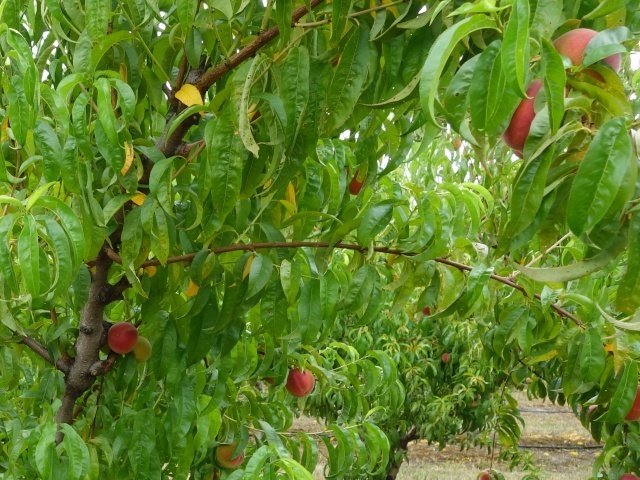peach: (495, 72, 563, 165), (548, 18, 624, 94), (104, 319, 142, 356), (284, 364, 317, 402), (213, 437, 247, 470), (341, 164, 371, 201), (128, 333, 156, 365)
